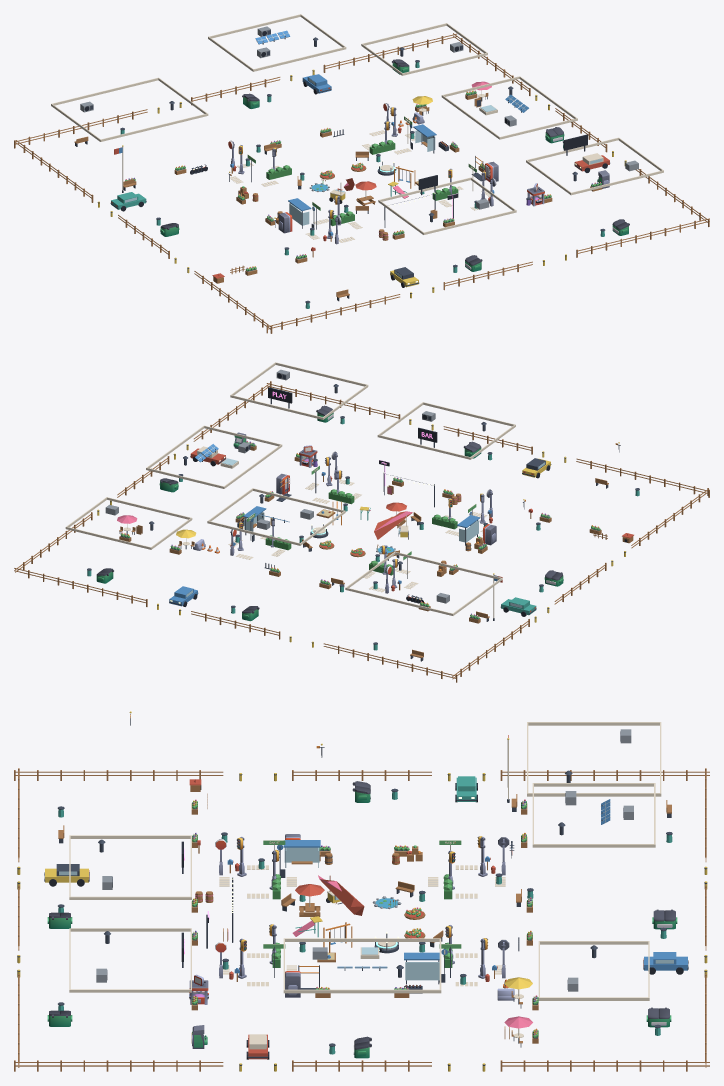
File: city_details.glb
3 views of the same model, one above another, from view 1: azimuth 30°, elevation 25°; view 2: azimuth 150°, elevation 25°; view 3: azimuth 270°, elevation 25° (orthographic). The views are drawn at different scales.
Visible parts, largest first — view 1: city_details, building_office__roof, building_gym__roof, building_arcade__roof, building_bar__roof, building_school__roof, building_cafe__roof; view 2: city_details, building_gym__roof, building_arcade__roof, building_bar__roof, building_office__roof, building_school__roof, building_cafe__roof; view 3: city_details, building_gym__roof, building_office__roof, building_arcade__roof, building_school__roof, building_bar__roof, building_cafe__roof.
Boxes of the visible parts, box(x1,y1,x2,y2) form: city_details: box(14, 33, 709, 333); building_office__roof: box(208, 14, 346, 71); building_gym__roof: box(441, 76, 577, 139); building_arcade__roof: box(526, 134, 663, 195); building_bar__roof: box(378, 175, 516, 234); building_school__roof: box(51, 77, 208, 141); building_cafe__roof: box(361, 23, 487, 75); city_details: box(14, 381, 709, 682); building_gym__roof: box(146, 425, 282, 488); building_arcade__roof: box(230, 362, 368, 419); building_bar__roof: box(377, 402, 515, 459); building_office__roof: box(207, 488, 345, 545); building_school__roof: box(345, 551, 502, 615); building_cafe__roof: box(65, 497, 192, 549); city_details: box(14, 735, 709, 1071); building_gym__roof: box(283, 938, 441, 993); building_office__roof: box(532, 783, 655, 847); building_arcade__roof: box(69, 928, 191, 992); building_school__roof: box(527, 722, 661, 796); building_bar__roof: box(69, 835, 191, 899); building_cafe__roof: box(538, 941, 649, 1000).
Bounding box in the file's own units: 60.07 × 11.91 × 60.07.
Materials: 30 (8 with a texture image).
